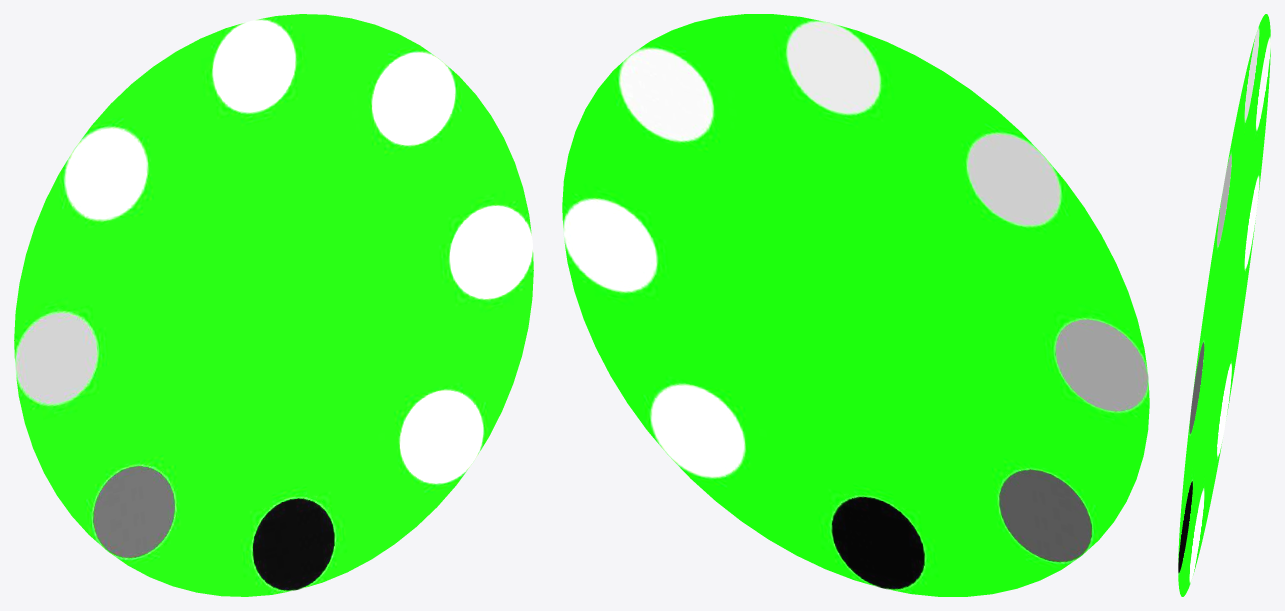
The model's file is byebyebinary.glb.
3 renders of one model, left to right at view 1: azimuth 30°, elevation 25°; view 2: azimuth 150°, elevation 25°; view 3: azimuth 270°, elevation 25°, orthographic. The views are drawn at different scales.
Visible parts, largest first — view 1: videotarget; view 2: videotarget; view 3: videotarget.
Part boxes in pixels (<box>): videotarget: <box>14,14,533,596</box>; videotarget: <box>562,14,1149,596</box>; videotarget: <box>1178,14,1270,596</box>.
Bounding box in the file's own units: 2 × 1.98 × 0.3142.
Materials: 1 (1 with a texture image).
